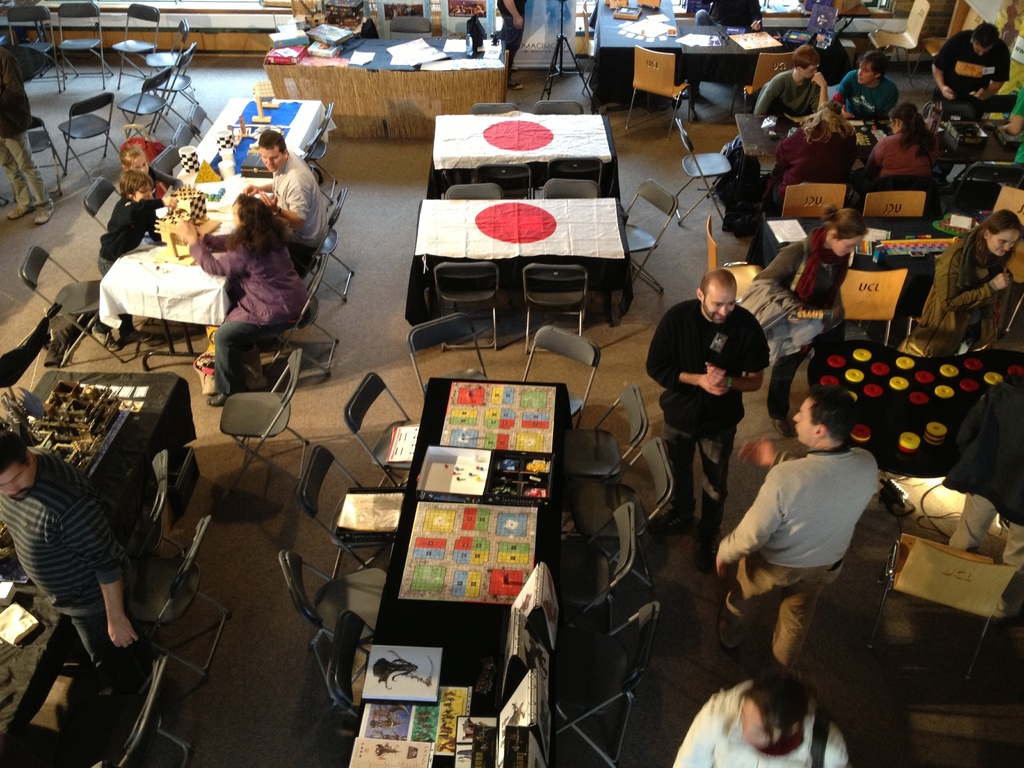Human_hand: (738, 438, 776, 468), (109, 619, 138, 648), (700, 373, 730, 397), (704, 363, 728, 388), (987, 270, 1011, 294), (260, 190, 278, 214), (177, 220, 195, 242), (717, 550, 729, 577), (812, 72, 829, 88), (243, 182, 259, 197), (975, 86, 990, 102), (511, 14, 525, 31), (840, 104, 856, 118), (940, 86, 956, 99), (161, 196, 178, 206), (196, 225, 207, 239), (751, 19, 762, 31)
